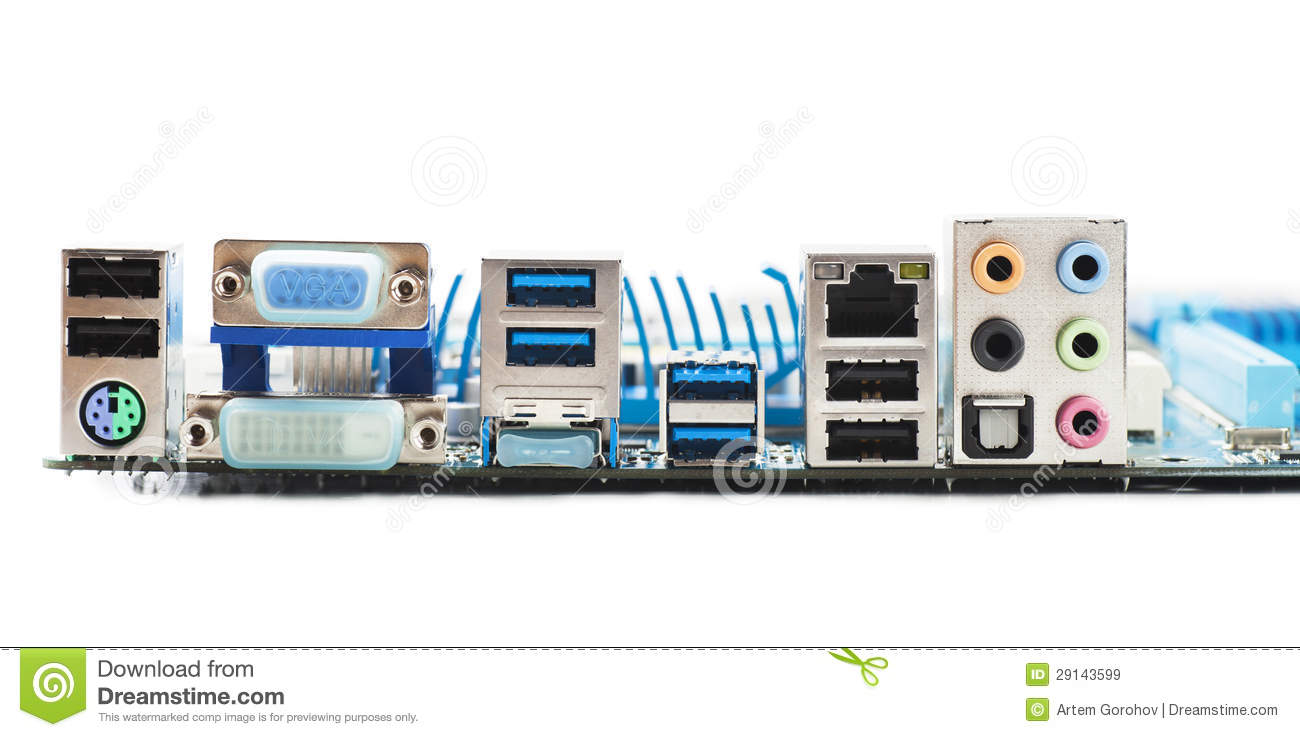Ethernet: (806, 250, 938, 351)
USB: (491, 263, 609, 320), (489, 325, 610, 372), (809, 360, 929, 406)
